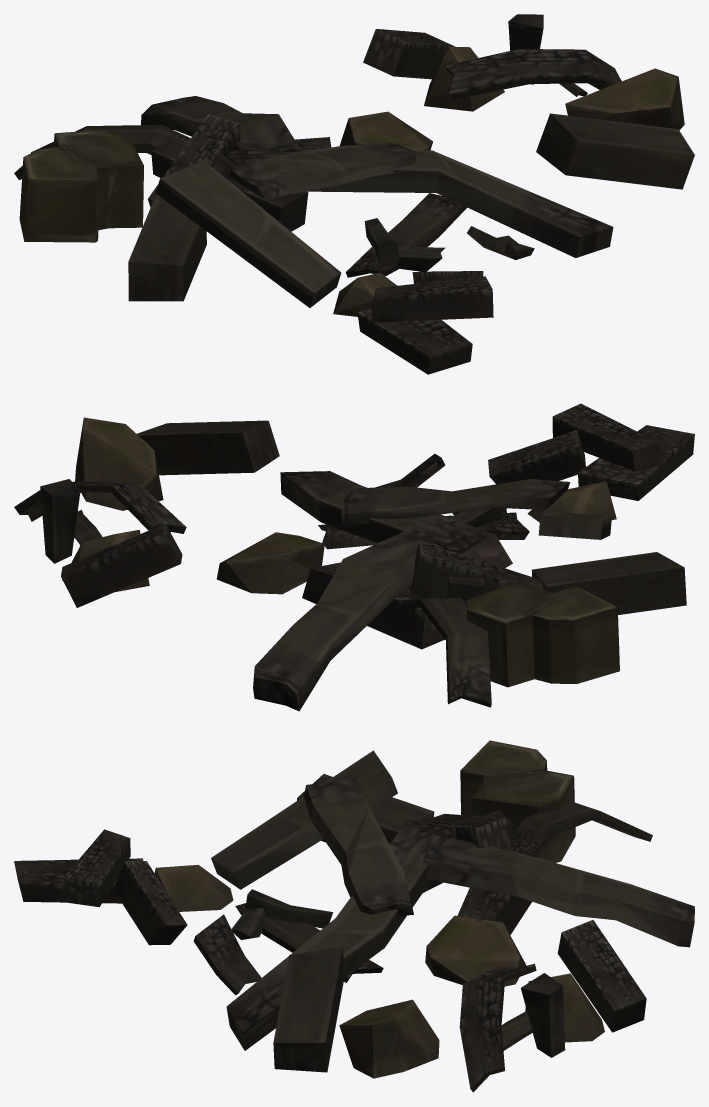
Rendered from debris_piles_burnt_04.fbx.
The picture shows the model from 3 angles, top to bottom: view 1: azimuth 30°, elevation 25°; view 2: azimuth 150°, elevation 25°; view 3: azimuth 270°, elevation 25°; orthographic projection.
Parts seen in each view (by area): view 1: obj0.439; view 2: obj0.439; view 3: obj0.439.
Part boxes in pixels (x1,y1,x2,y2): obj0.439: (14, 14, 694, 374); obj0.439: (14, 403, 694, 711); obj0.439: (14, 740, 694, 1092).
Size of the model in its own units: 6.32 by 1.16 by 6.24.
